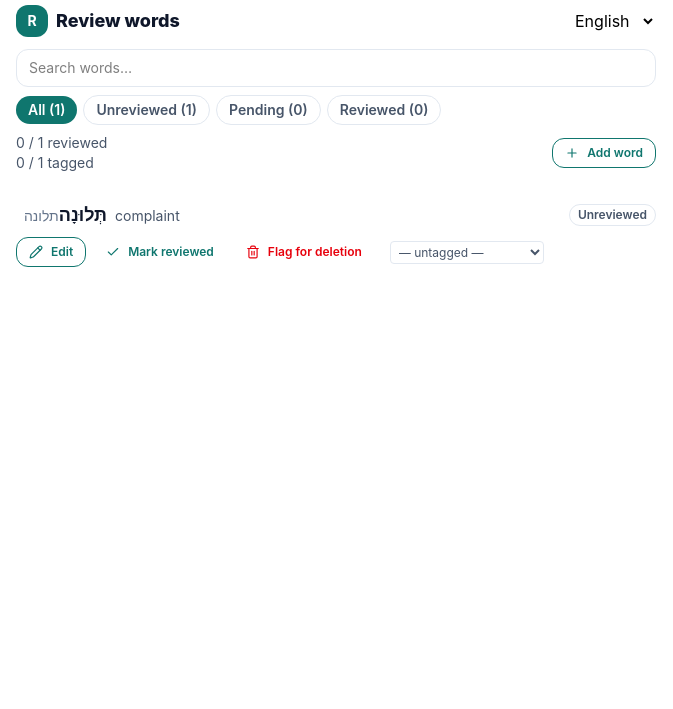
Test case: AdminDictionaryPage › shows a friendly alert when saveEditDraft fails on a duplicate pending edit
The image size is (673, 709).
Expected: the text "תְּלוּנָה" is shown, [59,204,107,225]
Click the button "Edit".
click(51, 252)  # box [16,237,86,267]
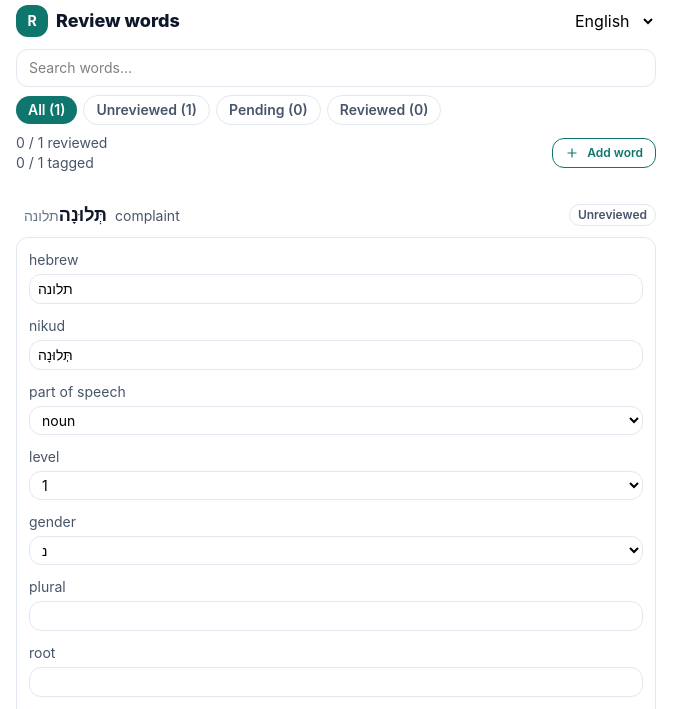
Type "x" into the field labelled "hebrew".
click(336, 289); type("x")  # box [29,274,643,304]
(page scrolled)
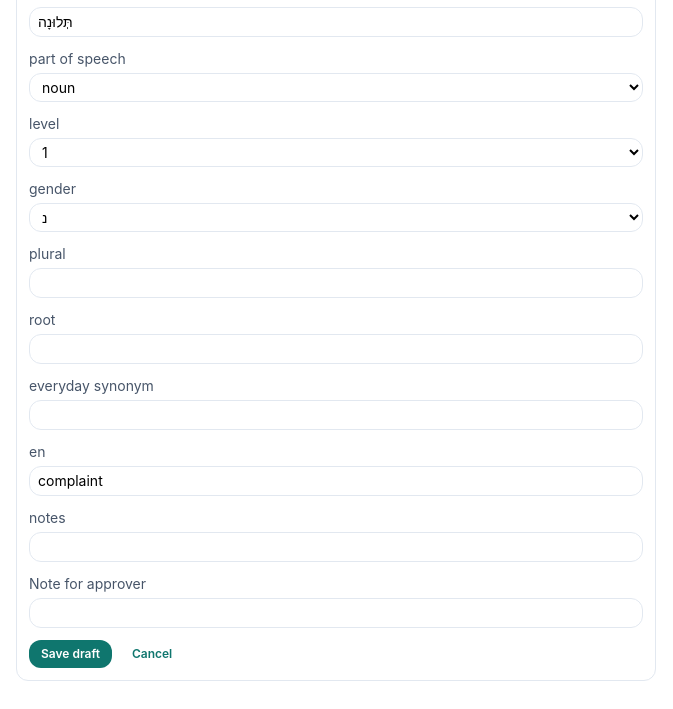
Click the button "Save draft".
click(70, 654)  # box [29,640,112,668]
(page scrolled)
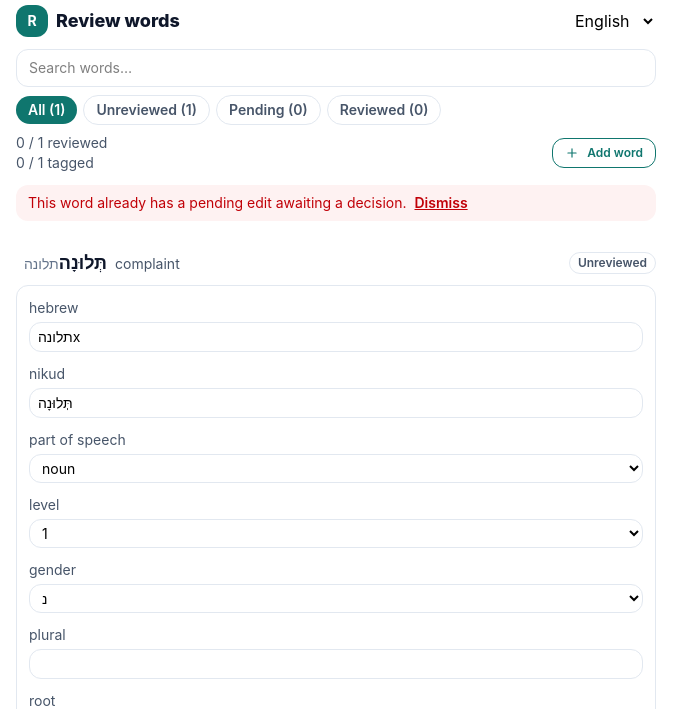
Now the message shows "already has a pending edit", box [28,194,406,211]
